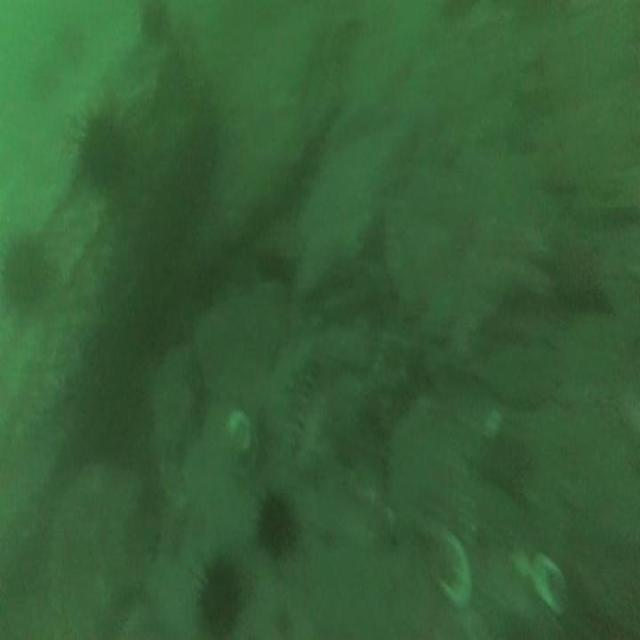echinus: (80, 115, 123, 190), (200, 561, 239, 635), (5, 239, 44, 308), (256, 493, 293, 556), (254, 248, 295, 289)
holothurian: (281, 359, 315, 447)
